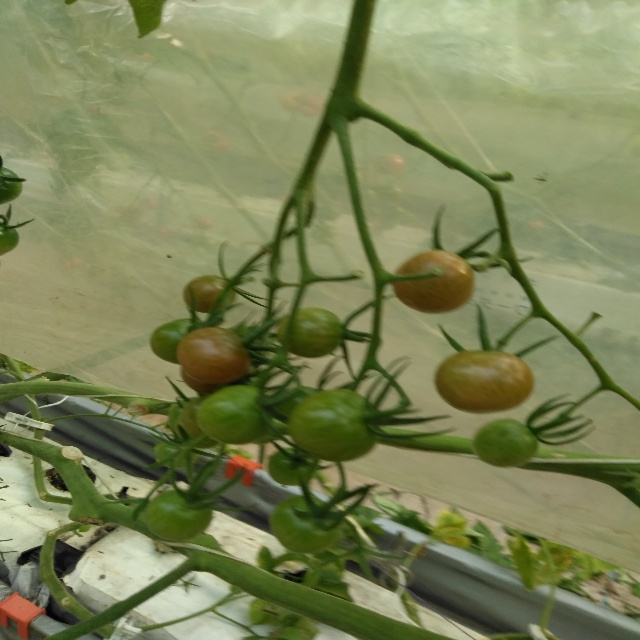l_green: (289, 389, 376, 461), (195, 385, 271, 445), (269, 496, 341, 553), (145, 491, 213, 541), (278, 308, 343, 358), (472, 419, 538, 468), (150, 319, 212, 365), (268, 448, 316, 486), (0, 166, 22, 205), (0, 223, 20, 256)
l_half_ripened: (435, 350, 536, 414), (393, 250, 474, 314), (177, 327, 248, 383), (183, 275, 236, 314)
